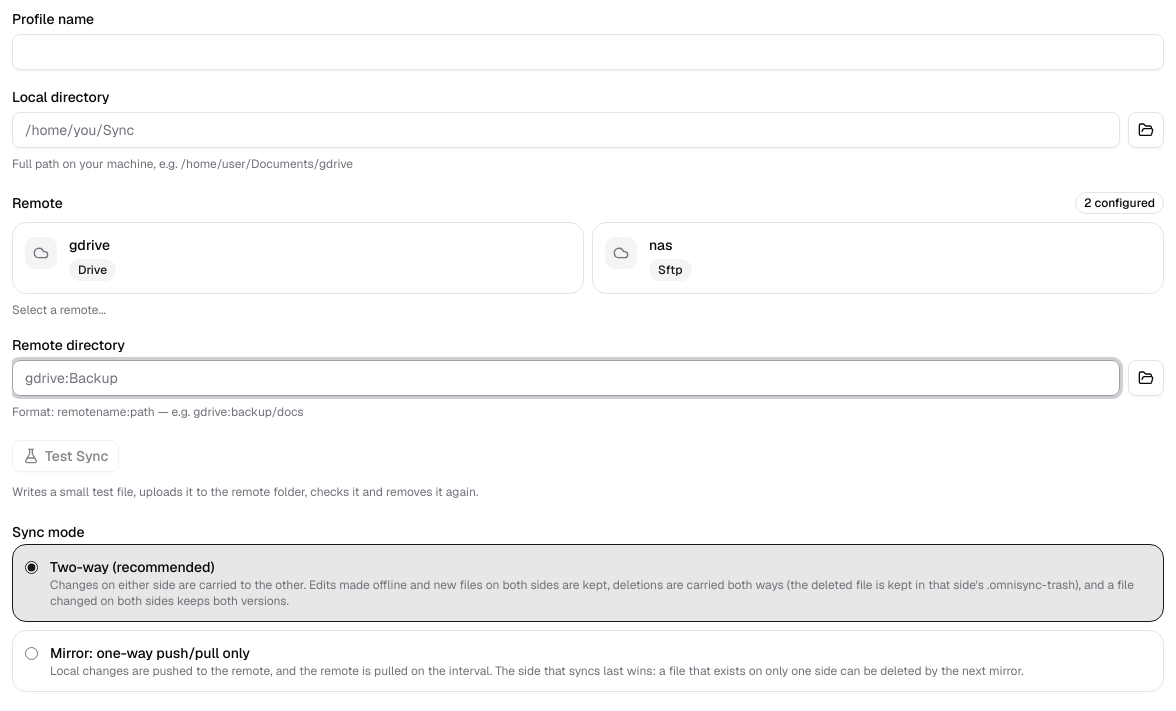
Test: ProfileForm remote dropdown › switching remotes keeps the path after the prefix
Type keys "gdrive:work/docs"
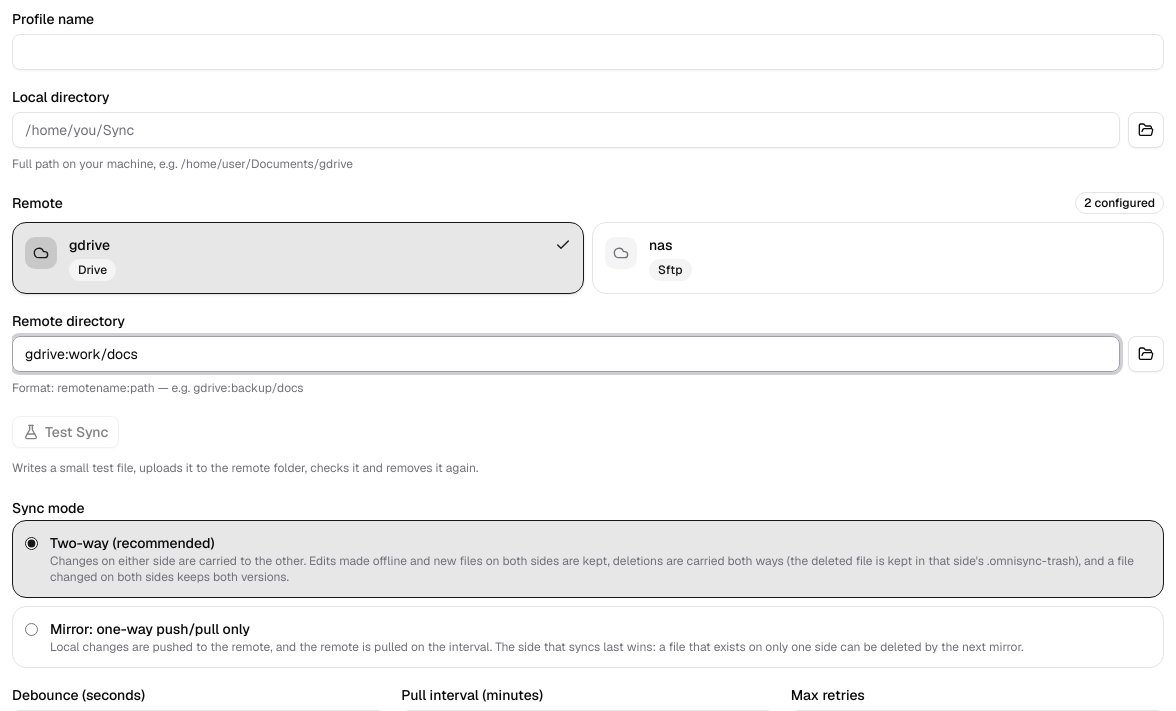
Result: the button "gdrive drive" is pressed at [12,222,584,294]
Click the button "nas sftp" at (621, 253), box [592,222,1164,294]
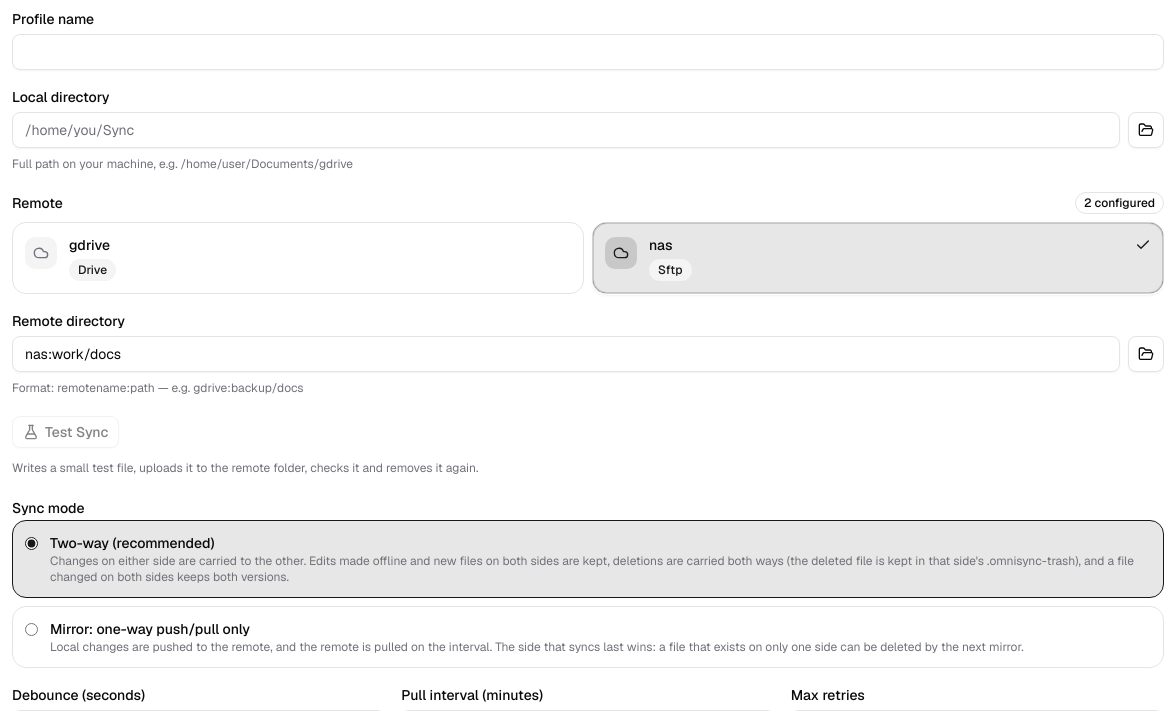
Result: the field labelled "Remote directory" holds "nas:work/docs" at [12,336,1120,372]
